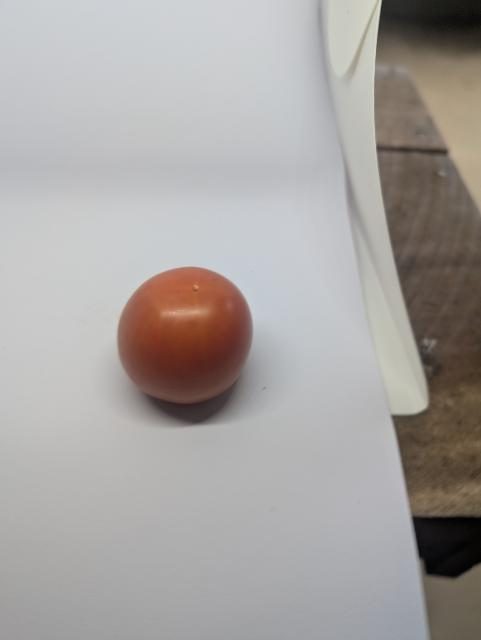red: (105, 254, 271, 419)
